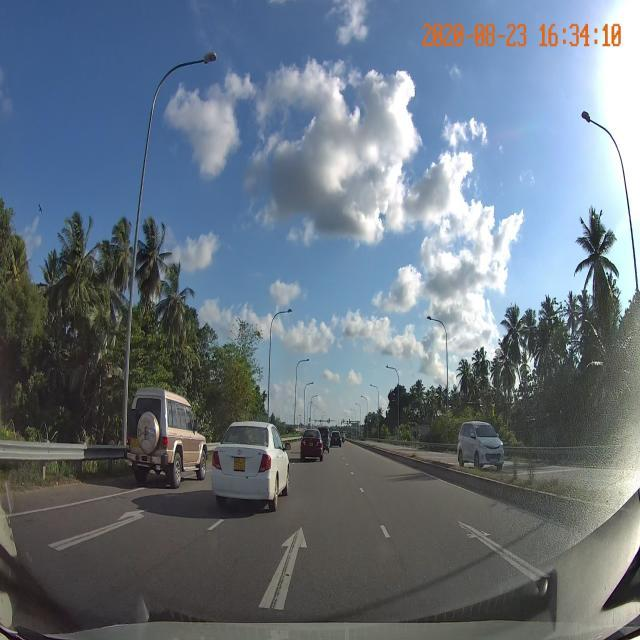forward: (112, 521, 431, 617)
